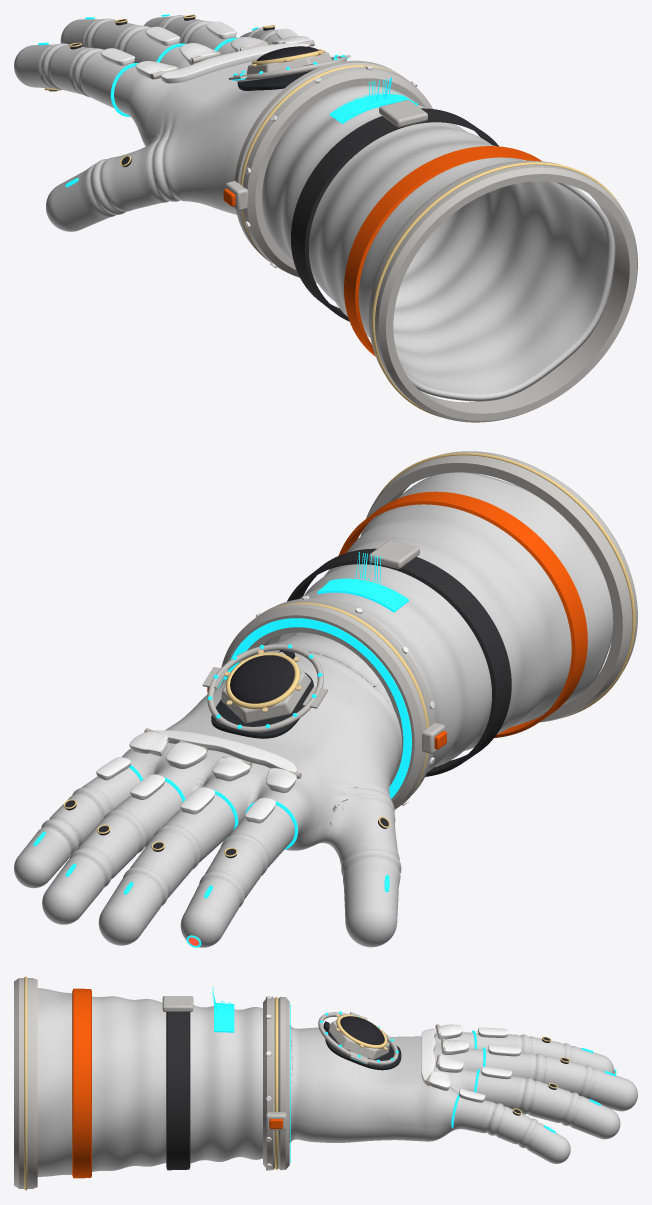
File: glove.glb
The picture shows the model from 3 angles, top to bottom: view 1: azimuth 30°, elevation 25°; view 2: azimuth 150°, elevation 25°; view 3: azimuth 270°, elevation 25°; orthographic projection. The views are drawn at different scales.
Parts seen in each view (by area): view 1: LX_Gauntlet, LX_Glove_Body, LX_Arm_Interface_Ring, LX_Wrist_Ring_Titanium, LX_Gauntlet_Strap, LX_Gauntlet_Band_Orange, LX_Knuckle_Bridge, LX_Arm_Bearing_Gold, LX_Cuff_Status_Display, LX_Gauntlet_Buckle, LX_Wrist_Bearing_Gold, LX_Core_BasePlate (+2 smaller); view 2: LX_Glove_Body, LX_Gauntlet, LX_Arm_Interface_Ring, LX_Wrist_Ring_Titanium, LX_Gauntlet_Band_Orange, LX_Gauntlet_Strap, LX_Wrist_Status_LED, LX_Core_Glass_Dome, LX_Knuckle_Bridge, LX_Core_Sensor_Ring, LX_Arm_Bearing_Gold, LX_Cuff_Status_Display (+8 smaller); view 3: LX_Gauntlet, LX_Glove_Body, LX_Arm_Interface_Ring, LX_Gauntlet_Strap, LX_Gauntlet_Band_Orange, LX_Wrist_Ring_Titanium, LX_Arm_Bearing_Gold, LX_Core_Glass_Dome, LX_Wrist_Bearing_Gold, LX_Core_Housing, LX_Knuckle_Bridge, LX_Core_Sensor_Ring (+9 smaller).
Boxes of the visible parts, bbox=[...] form: LX_Gauntlet: bbox=[262, 85, 615, 401]; LX_Glove_Body: bbox=[14, 15, 283, 231]; LX_Arm_Interface_Ring: bbox=[368, 160, 637, 422]; LX_Wrist_Ring_Titanium: bbox=[234, 60, 432, 277]; LX_Gauntlet_Strap: bbox=[291, 108, 498, 321]; LX_Gauntlet_Band_Orange: bbox=[344, 146, 541, 356]; LX_Knuckle_Bridge: bbox=[160, 43, 310, 83]; LX_Arm_Bearing_Gold: bbox=[371, 162, 620, 417]; LX_Cuff_Status_Display: bbox=[329, 94, 417, 123]; LX_Gauntlet_Buckle: bbox=[379, 100, 427, 127]; LX_Wrist_Bearing_Gold: bbox=[240, 65, 393, 253]; LX_Core_BasePlate: bbox=[237, 71, 310, 90]; LX_Glove_Body: bbox=[14, 633, 401, 947]; LX_Gauntlet: bbox=[268, 472, 613, 771]; LX_Arm_Interface_Ring: bbox=[360, 451, 637, 722]; LX_Wrist_Ring_Titanium: bbox=[221, 598, 434, 809]; LX_Gauntlet_Band_Orange: bbox=[338, 491, 587, 737]; LX_Gauntlet_Strap: bbox=[287, 548, 511, 776]; LX_Wrist_Status_LED: bbox=[224, 618, 411, 798]; LX_Core_Glass_Dome: bbox=[230, 655, 294, 703]; LX_Knuckle_Bridge: bbox=[154, 730, 296, 771]; LX_Core_Sensor_Ring: bbox=[207, 644, 323, 732]; LX_Arm_Bearing_Gold: bbox=[376, 452, 635, 717]; LX_Cuff_Status_Display: bbox=[317, 578, 408, 612]; LX_Gauntlet: bbox=[37, 988, 262, 1176]; LX_Glove_Body: bbox=[289, 1025, 637, 1163]; LX_Arm_Interface_Ring: bbox=[14, 978, 37, 1188]; LX_Gauntlet_Strap: bbox=[166, 1012, 190, 1170]; LX_Gauntlet_Band_Orange: bbox=[72, 988, 91, 1178]; LX_Wrist_Ring_Titanium: bbox=[263, 996, 289, 1170]; LX_Arm_Bearing_Gold: bbox=[24, 976, 27, 1190]; LX_Core_Glass_Dome: bbox=[340, 1016, 384, 1044]; LX_Wrist_Bearing_Gold: bbox=[274, 997, 278, 1169]; LX_Core_Housing: bbox=[328, 1020, 389, 1059]; LX_Knuckle_Bridge: bbox=[421, 1028, 436, 1085]; LX_Core_Sensor_Ring: bbox=[318, 1012, 398, 1065].
Size of the model in its own units: 0.1598 by 0.1241 by 0.3683.
